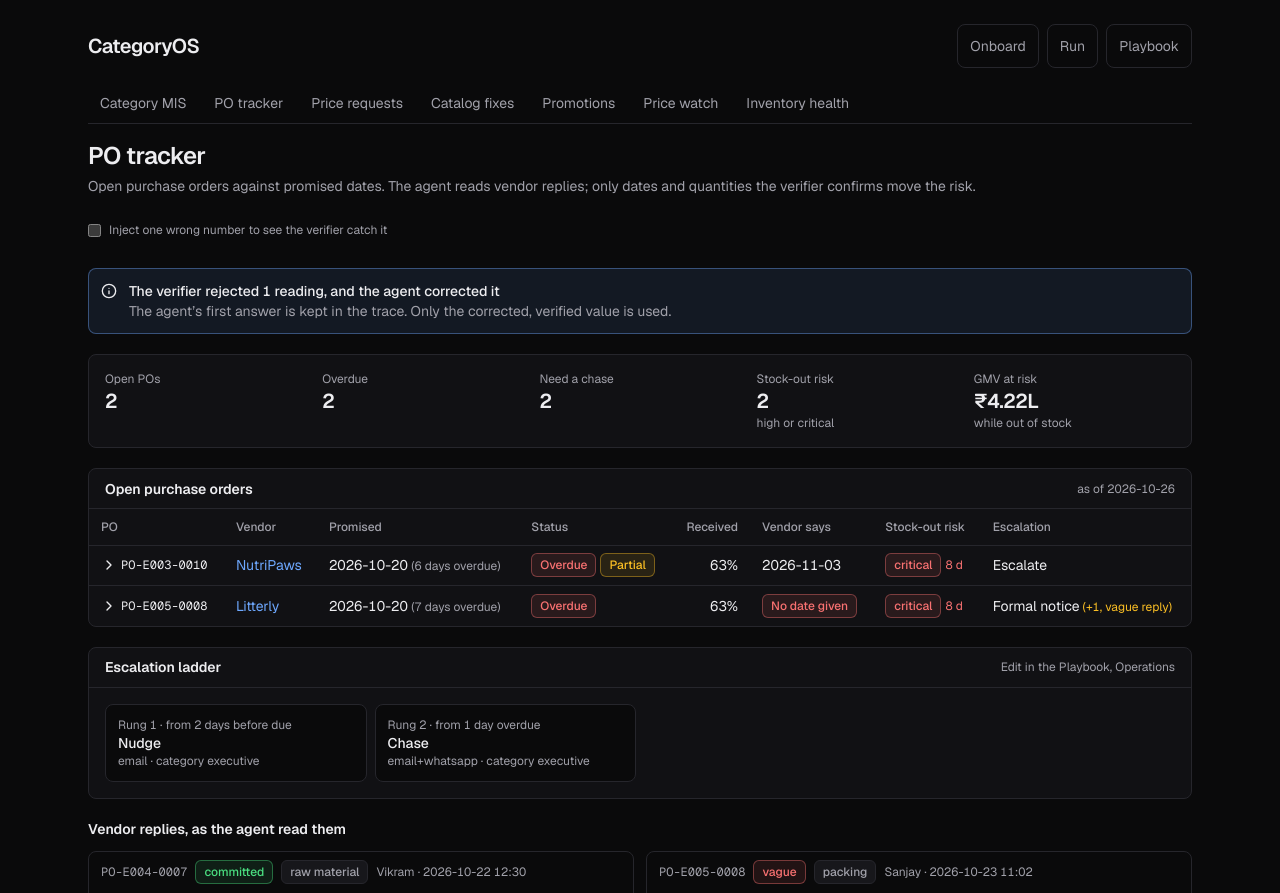
it: PoTrackerPage › lists POs with status, vendor date, risk and rung, and expands a PO to its lines
Check: the row that starts with "PO-E003-0010" shows "6 days overdue", box x1=415 y1=558 x2=497 y2=574
Check: the row that starts with "PO-E003-0010" shows "2026-11-03", box x1=762 y1=556 x2=841 y2=574
Click the button "PO-E003-0010" at (154, 565), box x1=101 y1=549 x2=207 y2=581
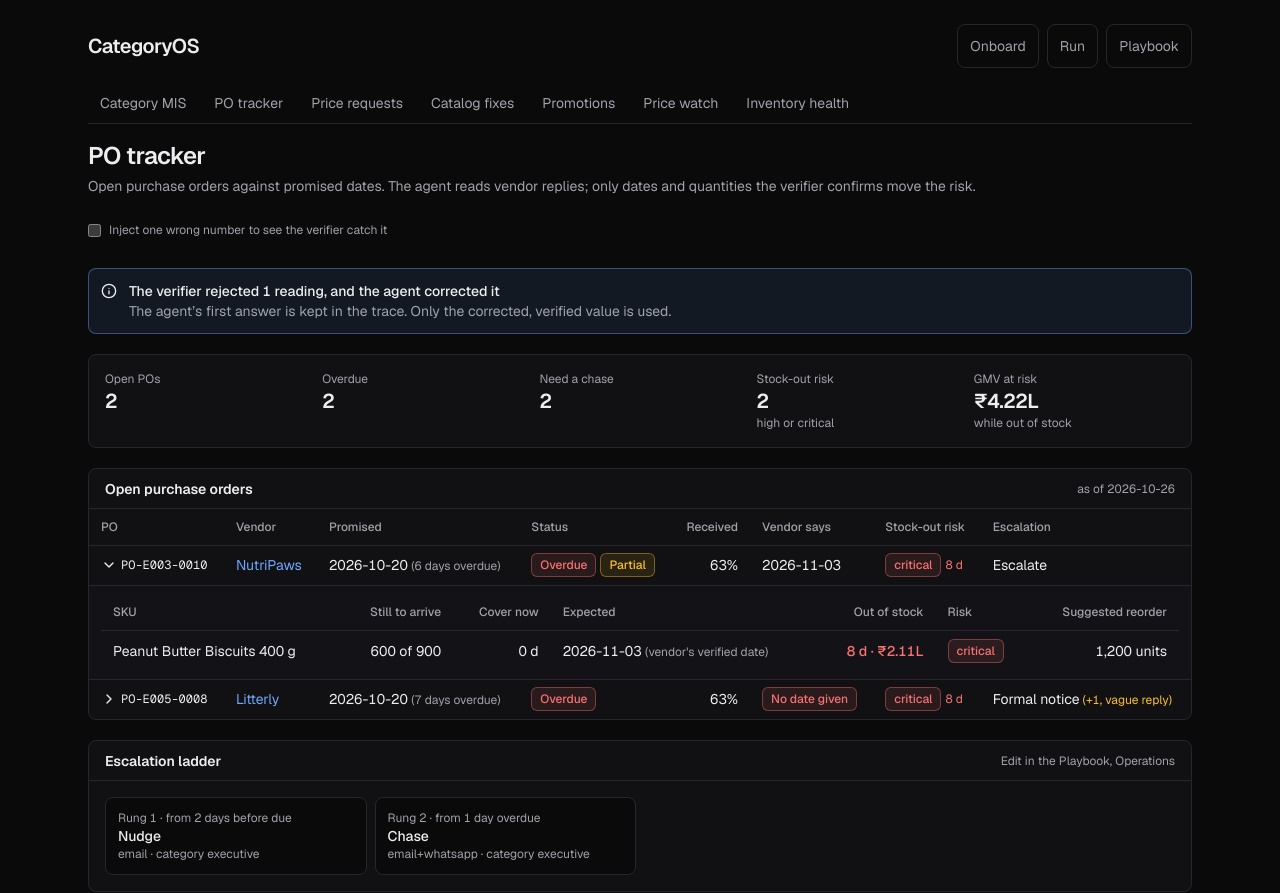
Check: the text "The verifier rejected 1 reading, and the agent corrected it" is shown, box x1=129 y1=282 x2=500 y2=300
Check: the table named "PO lines" shows "vendor's verified date", box x1=648 y1=644 x2=765 y2=660
